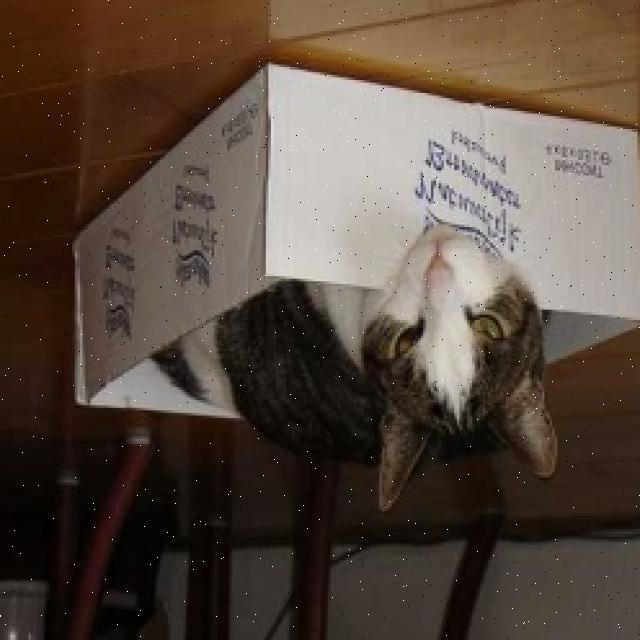box: (85, 80, 640, 434)
